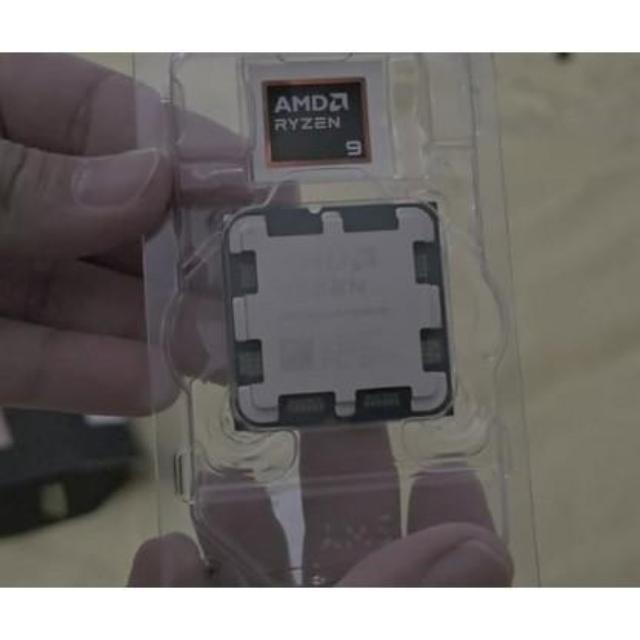CPU: (224, 204, 453, 418)
